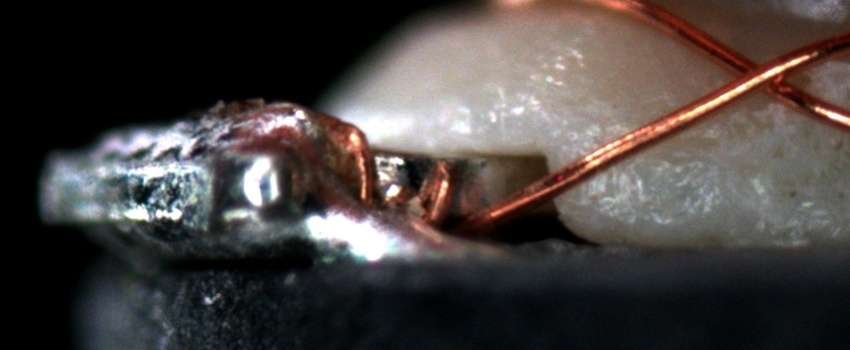CL: (711, 42, 811, 105)
DL: (613, 139, 715, 178)
TE: (324, 107, 456, 230)
